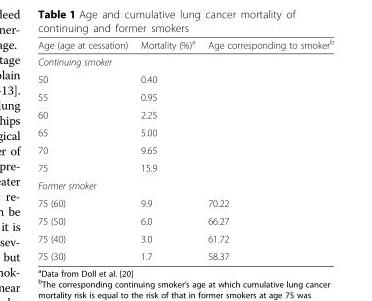table: (37, 37, 333, 261)
table column: (200, 37, 333, 261), (37, 37, 133, 261), (133, 37, 200, 261)
table column header: (37, 37, 333, 53)
table projected row header: (37, 176, 333, 194), (37, 53, 333, 70)
table row: (37, 87, 333, 105), (37, 105, 333, 123), (37, 140, 333, 158), (37, 158, 333, 176), (37, 176, 333, 194), (37, 211, 333, 229), (37, 229, 333, 247), (37, 53, 333, 70), (37, 70, 333, 87), (37, 123, 333, 140), (37, 194, 333, 211), (37, 37, 333, 53), (37, 247, 333, 261)
